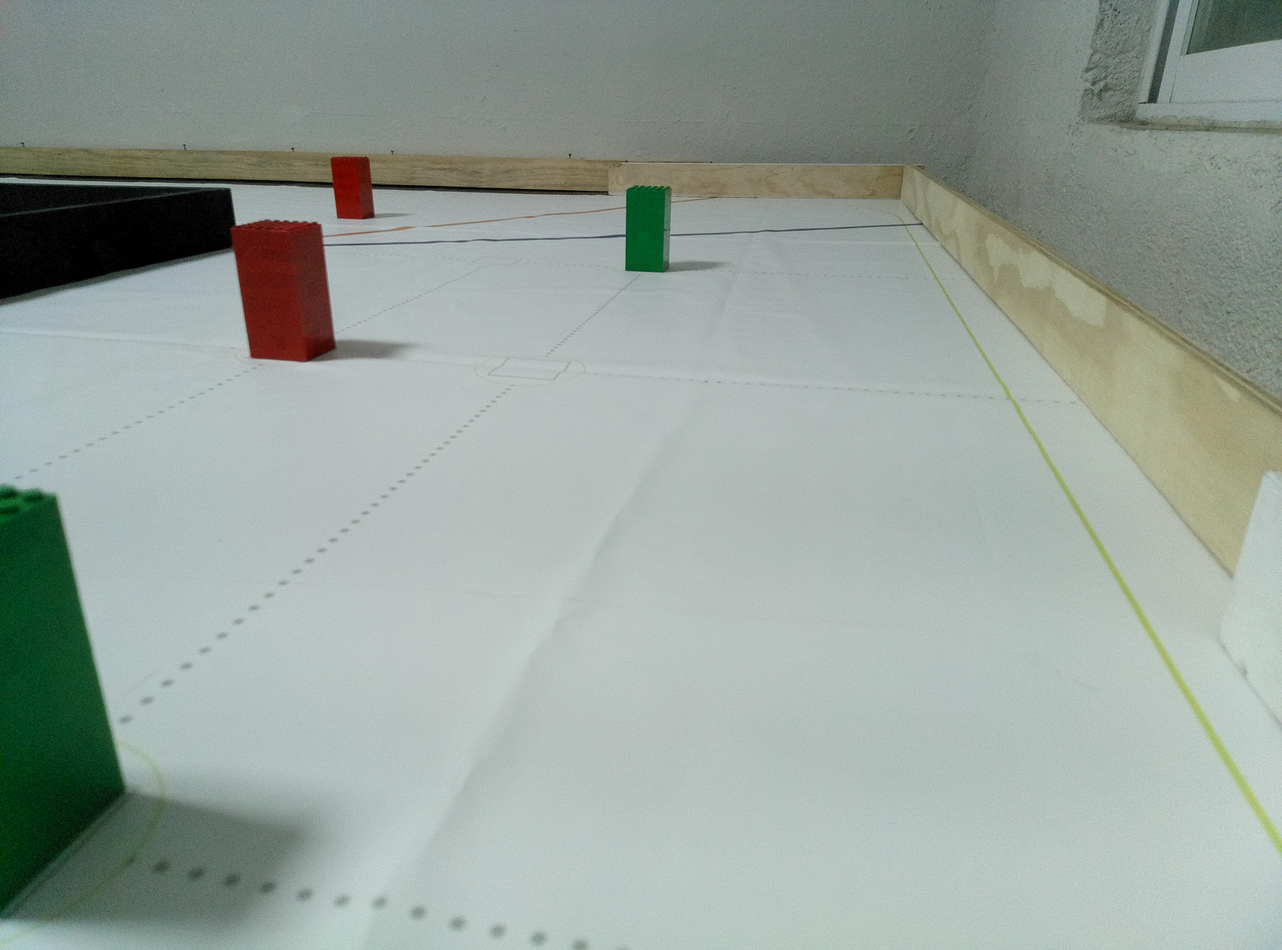greenbox: (0, 481, 140, 925), (622, 183, 675, 274)
redbox: (228, 216, 337, 362), (329, 155, 376, 220)
